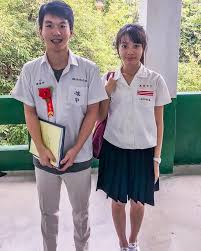people: (21, 1, 105, 251), (104, 23, 167, 251)
